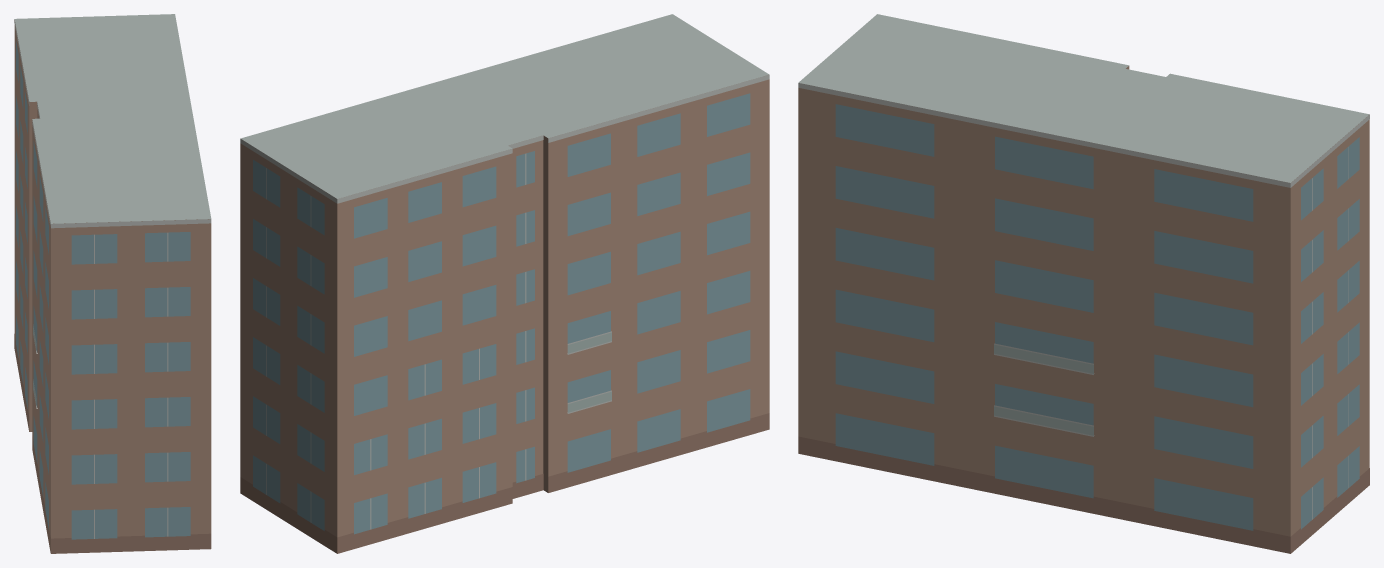
File: survey-upis-32875036.glb
3 views of the same model, side by side, from view 1: azimuth 30°, elevation 25°; view 2: azimuth 150°, elevation 25°; view 3: azimuth 270°, elevation 25° (orthographic). The views are drawn at different scales.
Visible parts, largest first — view 1: survey-upis-32875036.tmp; view 2: survey-upis-32875036.tmp; view 3: survey-upis-32875036.tmp.
Boxes of the visible parts, x1=… form: survey-upis-32875036.tmp: x1=14, y1=14, x2=211, y2=553; survey-upis-32875036.tmp: x1=240, y1=14, x2=769, y2=553; survey-upis-32875036.tmp: x1=798, y1=14, x2=1369, y2=553.
Bounding box in the file's own units: 17.89 × 18.3 × 25.57.
